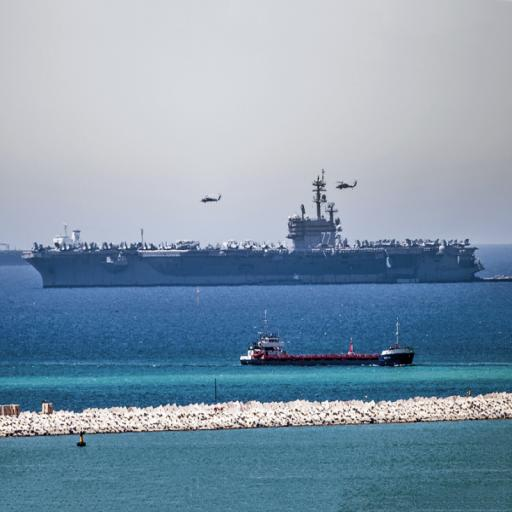Portanaves: (20, 169, 491, 294)
